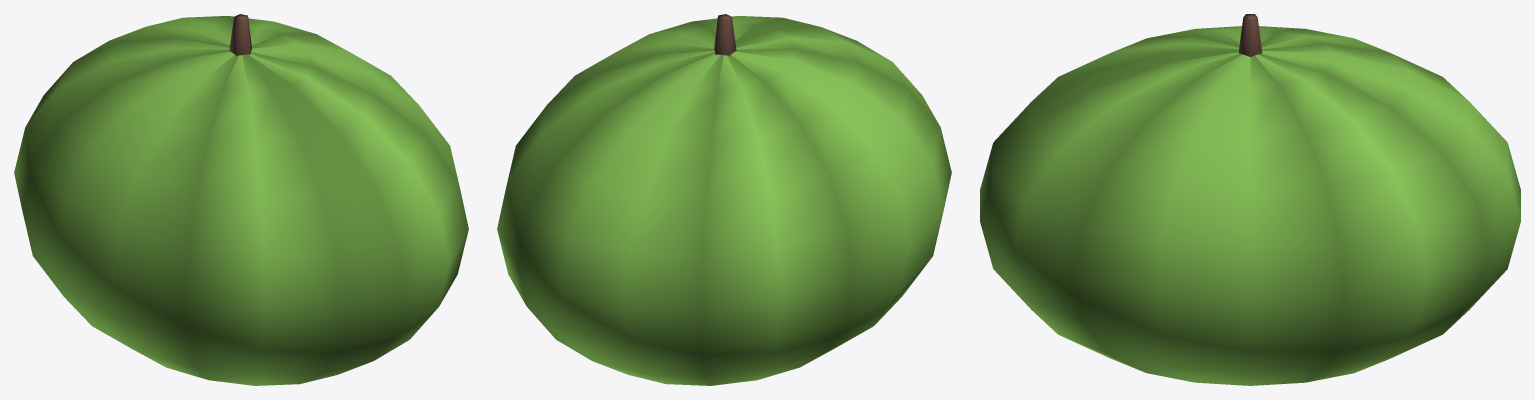
The model's file is fruit-watermelon-unripe.glb.
The picture shows the model from 3 angles, left to right: view 1: azimuth 30°, elevation 25°; view 2: azimuth 150°, elevation 25°; view 3: azimuth 270°, elevation 25°; orthographic projection. The views are drawn at different scales.
Parts seen in each view (by area): view 1: fruit-watermelon-unripe; view 2: fruit-watermelon-unripe; view 3: fruit-watermelon-unripe.
Part boxes in pixels (x1=…): fruit-watermelon-unripe: x1=14, y1=14, x2=468, y2=385; fruit-watermelon-unripe: x1=497, y1=14, x2=951, y2=385; fruit-watermelon-unripe: x1=980, y1=14, x2=1520, y2=385.
Size of the model in its own units: 1.1 by 0.9515 by 1.35.
